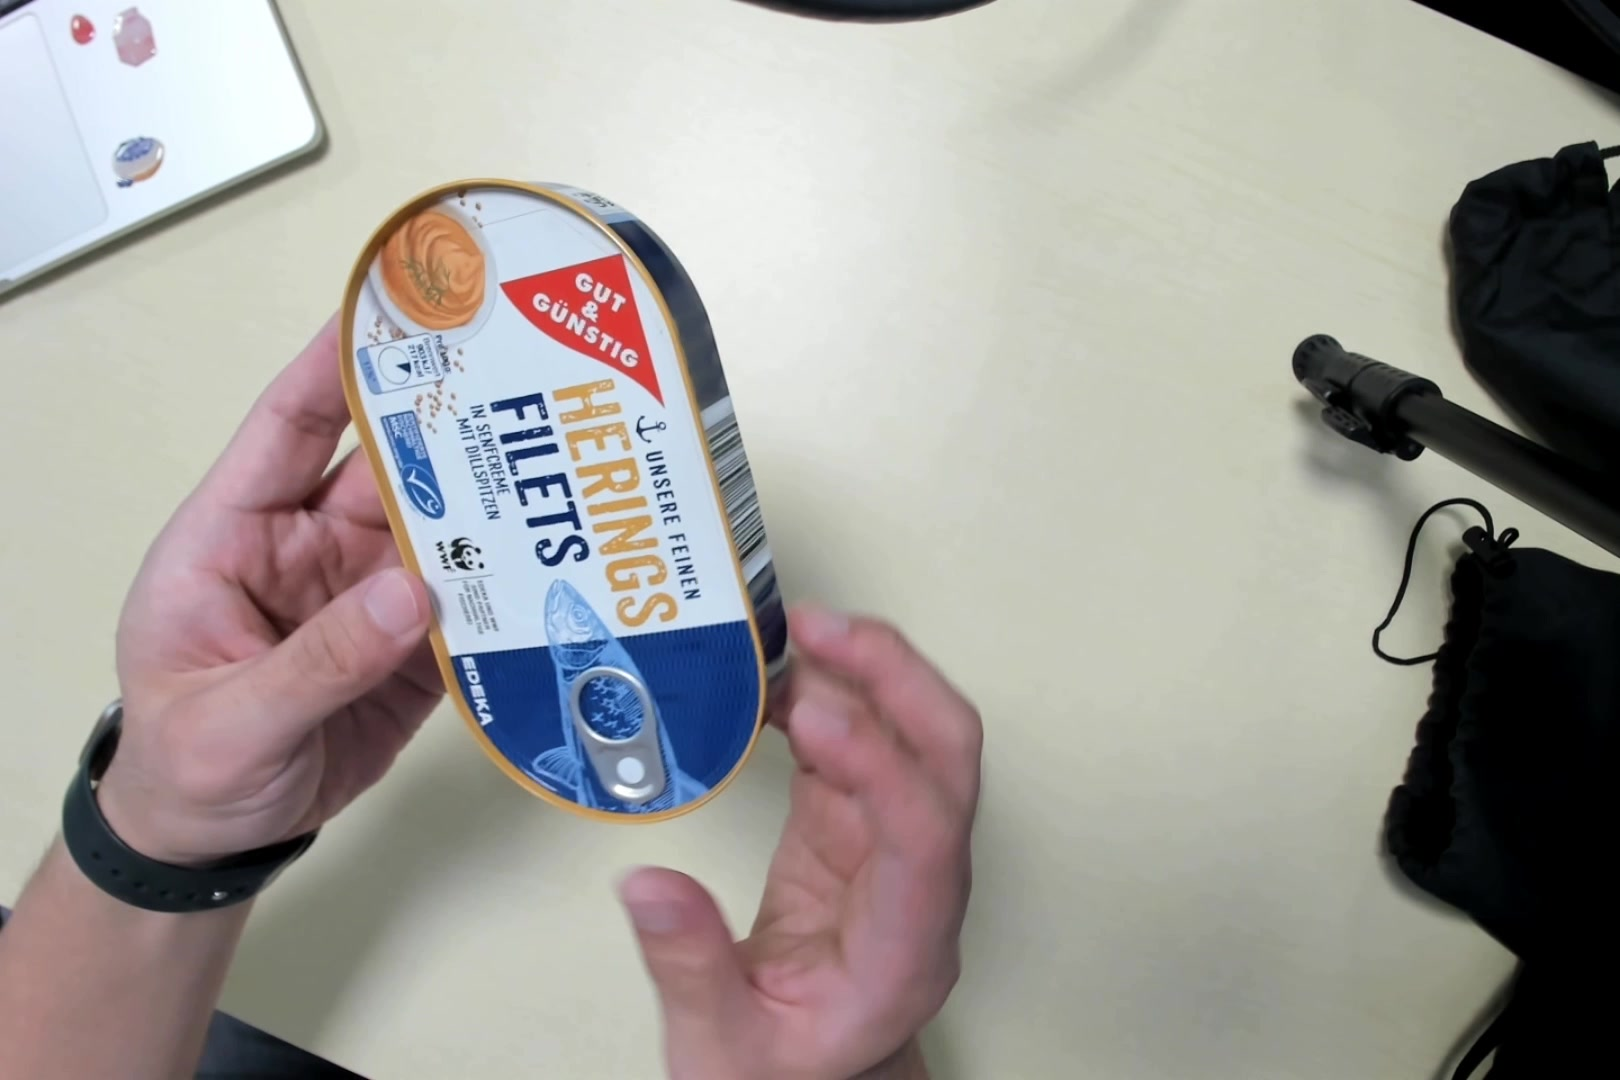OtherCannedSeafood_100-199g_Halal_NonHealthy: (335, 174, 799, 822)
